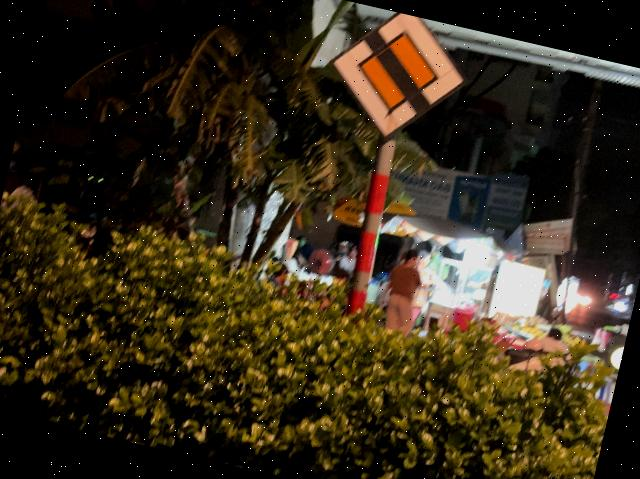het-duong-uu-tien: (314, 0, 480, 157)
